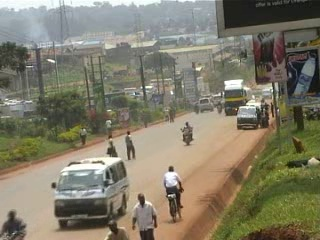Motorcycle: (0, 206, 32, 239), (178, 121, 195, 146), (191, 99, 201, 117), (215, 98, 224, 114)
